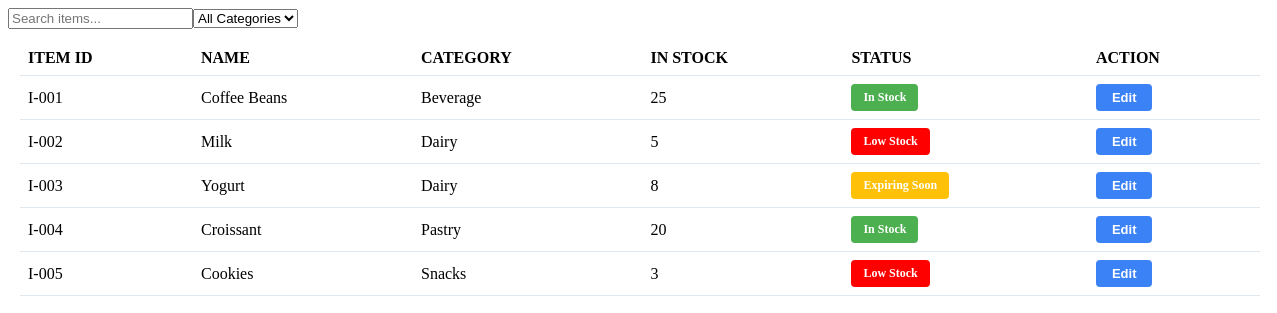
it: InventoryTable Integration Tests › combines search and filter
Select "Dairy" in the dropdown with test id "filter-dropdown" at [246, 18], box left=193, top=9, right=298, bottom=28
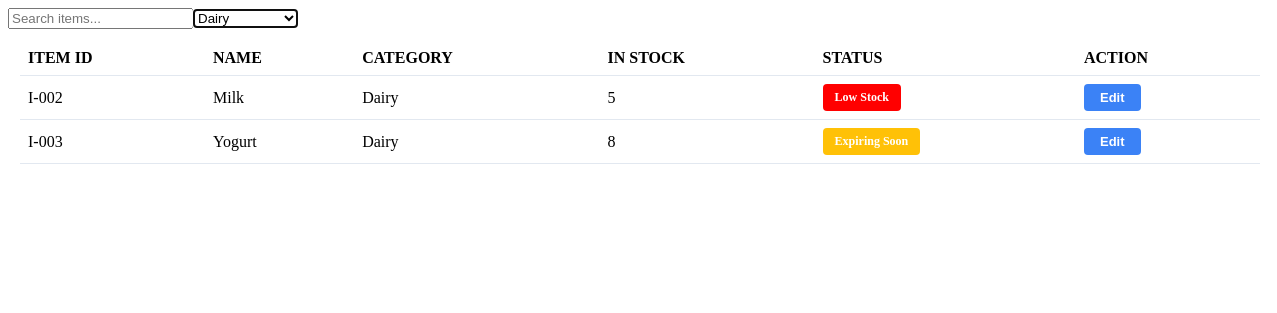
Type "Milk" into the field with test id "search-input" at [100, 18], box left=8, top=8, right=193, bottom=29
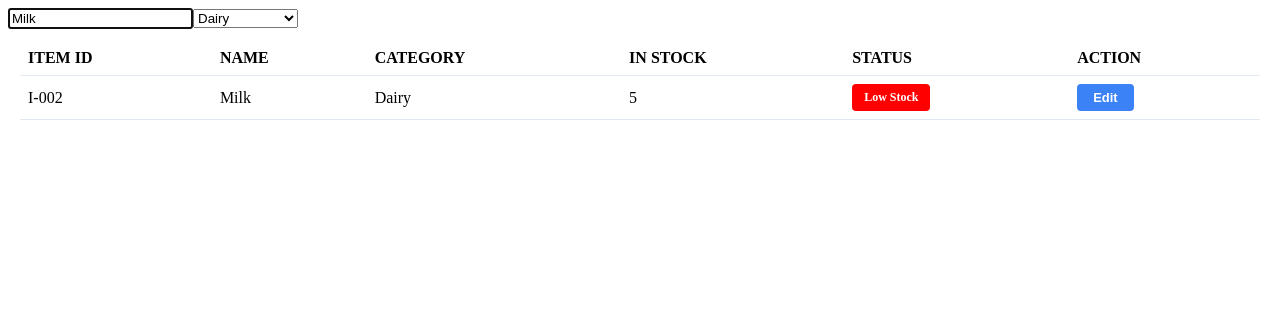
Check: the text "Milk" is shown, box left=212, top=76, right=367, bottom=120
Check: the text "Yogurt" is gone
